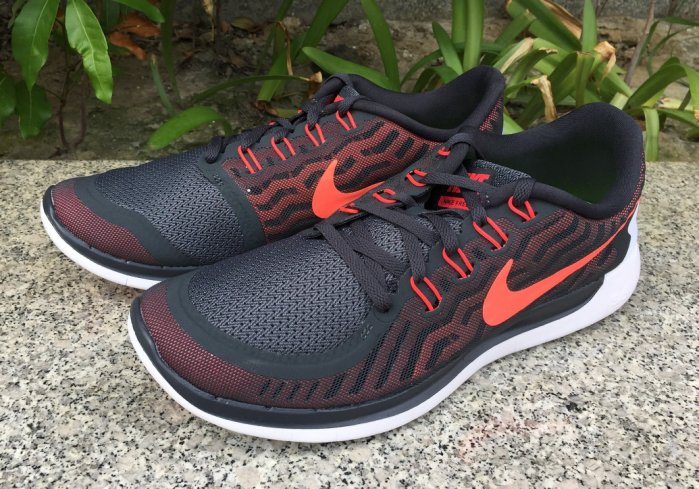Nike: (478, 198, 643, 330), (306, 153, 399, 222)
